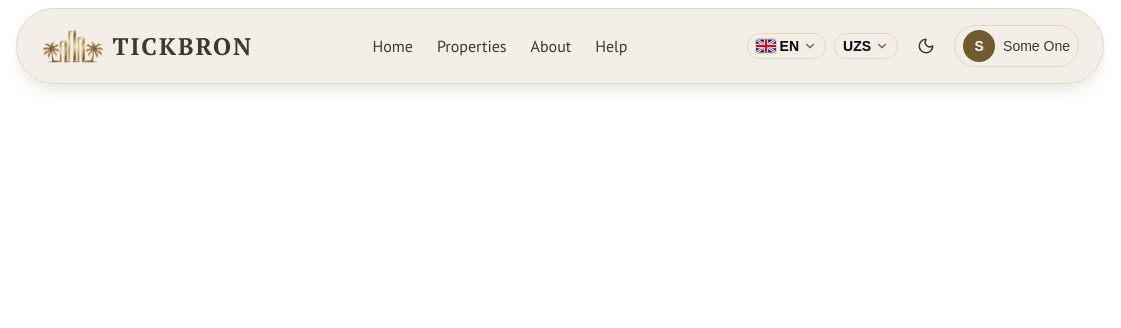
Test: Header › hides the partner dashboard link from regular users
Step 1. Click the button "S Some One" → (1016, 46), box [954,25,1079,67]
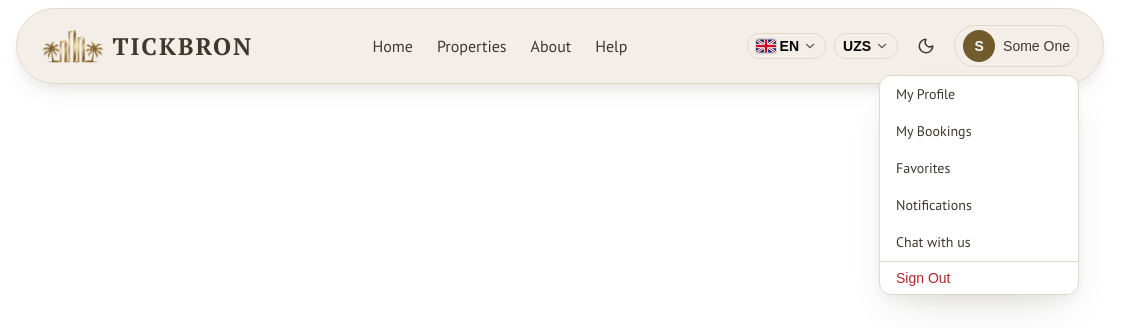
Result: the link "My Profile" is shown at [896,85,955,103]
